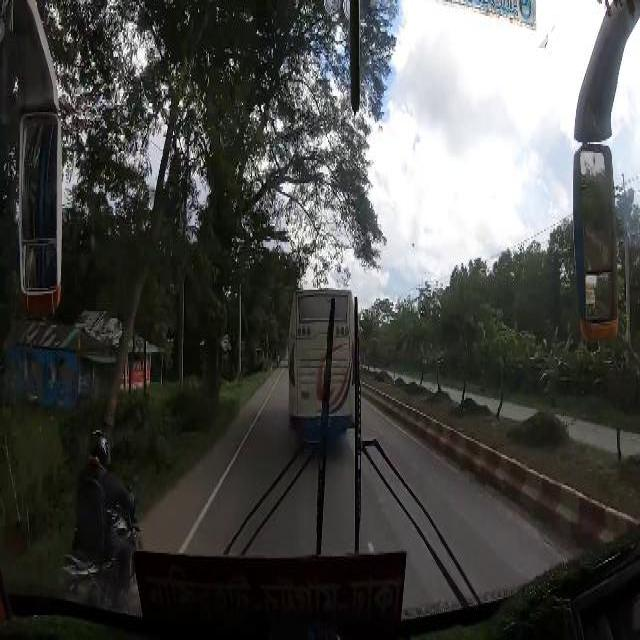bus: (284, 279, 359, 437)
motorcycle: (59, 427, 142, 608)
